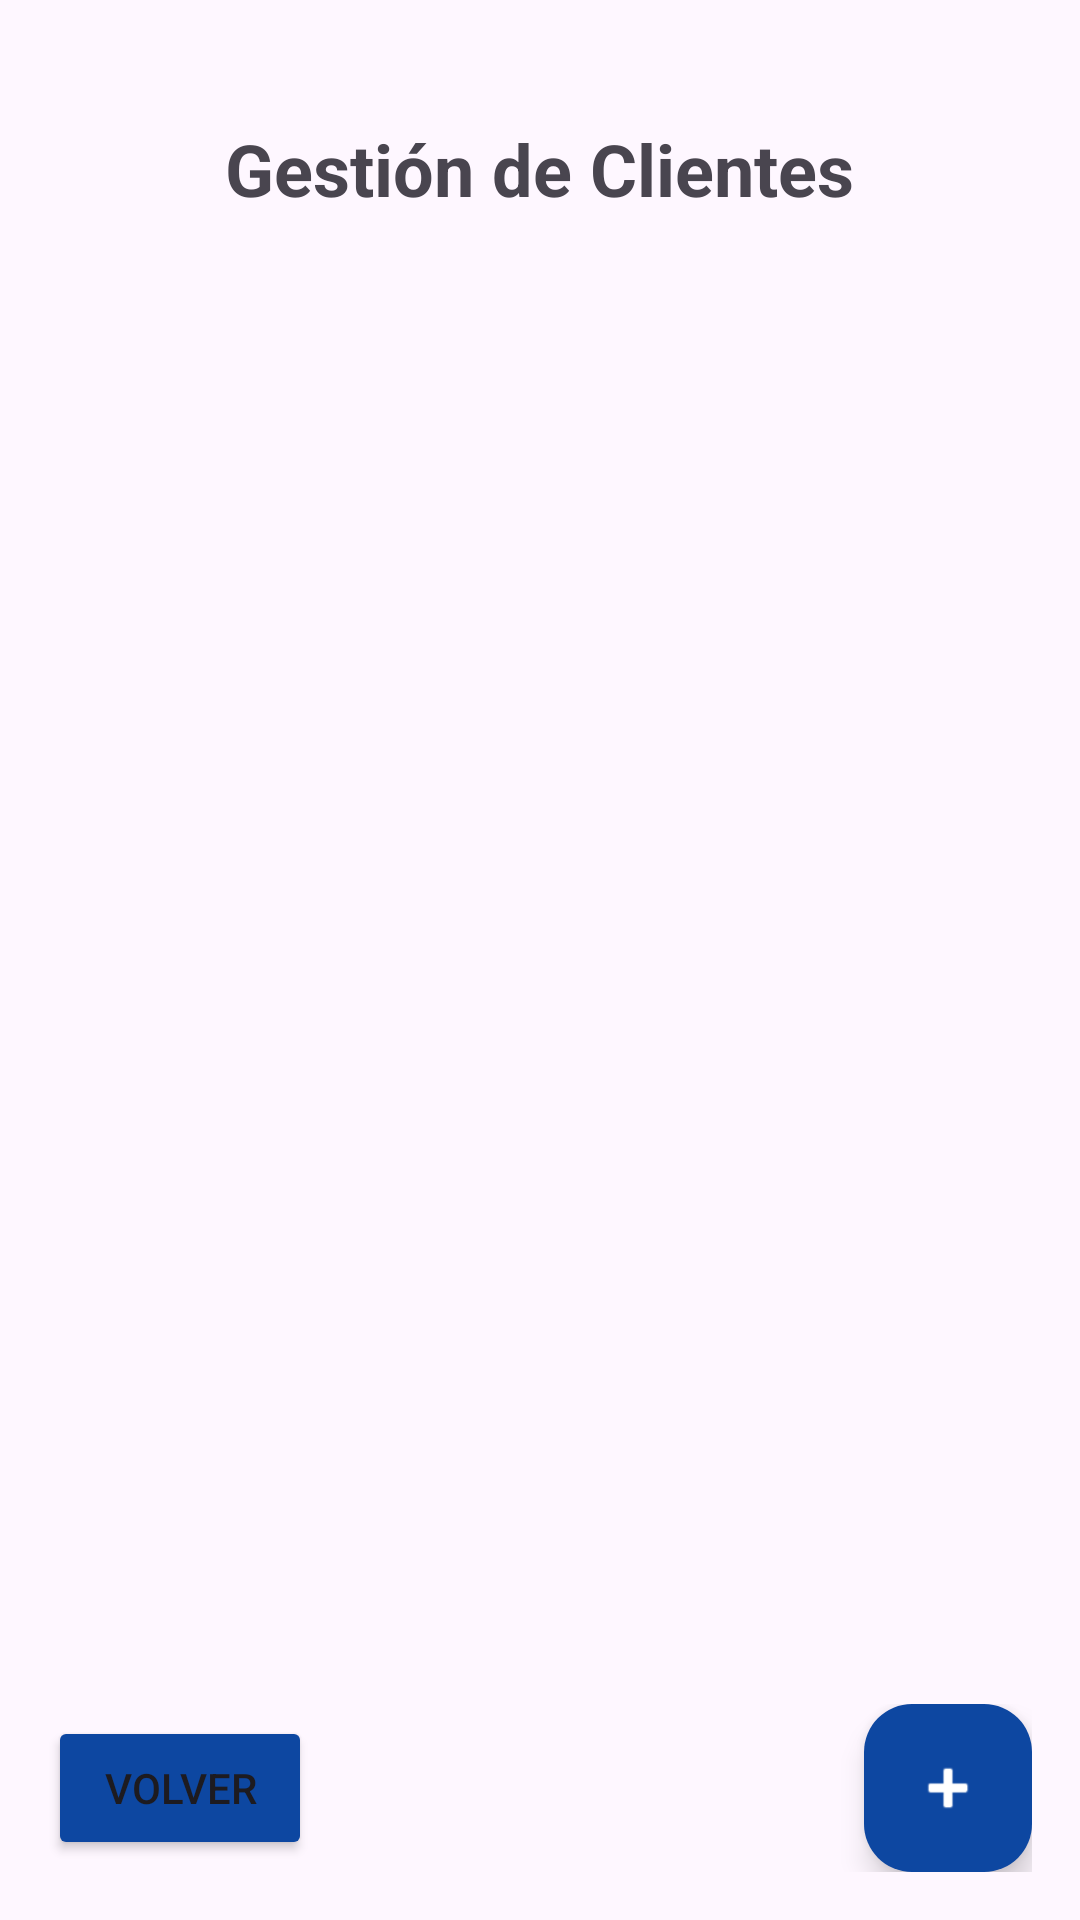

Named icons in this screenshot (1080px x 1920px) and their bounding boxes, bbox=[x1, y1, x2, y2]:
Agregar Cliente: bbox=[864, 1704, 1032, 1872]
